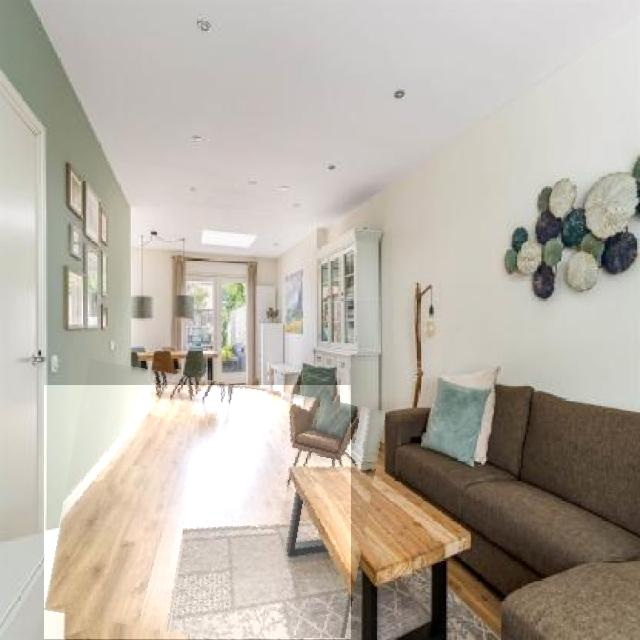floor: (45, 385, 351, 639)
